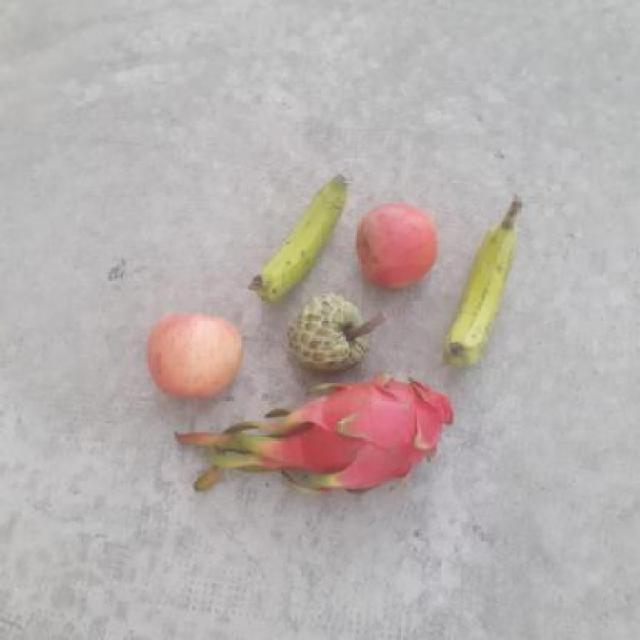apple: (144, 308, 244, 404), (349, 198, 443, 292)
banana: (247, 167, 351, 299), (439, 214, 519, 364)
dragon fruit: (293, 373, 452, 495)
sugar apple: (289, 287, 373, 378)
